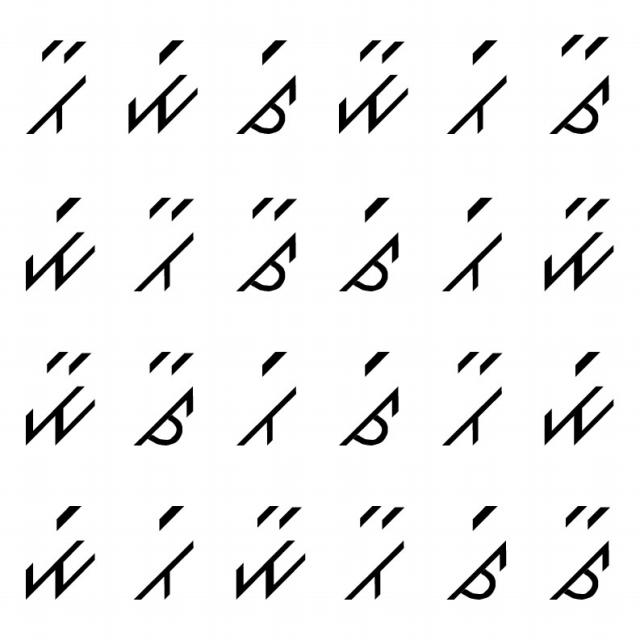ban: (429, 338, 508, 455), (126, 182, 196, 302), (18, 32, 91, 144), (336, 500, 411, 604)
bang: (434, 193, 506, 299), (442, 30, 512, 138), (227, 347, 299, 451), (131, 498, 197, 608)
can: (132, 338, 204, 454), (542, 28, 616, 140), (232, 188, 302, 300), (550, 494, 614, 608)
cang: (437, 496, 519, 606), (328, 349, 409, 450), (332, 187, 406, 297), (230, 32, 302, 142)
man: (223, 495, 316, 607), (17, 340, 102, 446), (332, 31, 415, 138), (536, 190, 621, 294)
mang: (115, 31, 206, 139), (11, 190, 100, 296), (540, 344, 623, 452), (17, 496, 100, 601)
